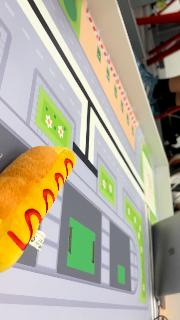hotdog: (1, 144, 77, 274)
